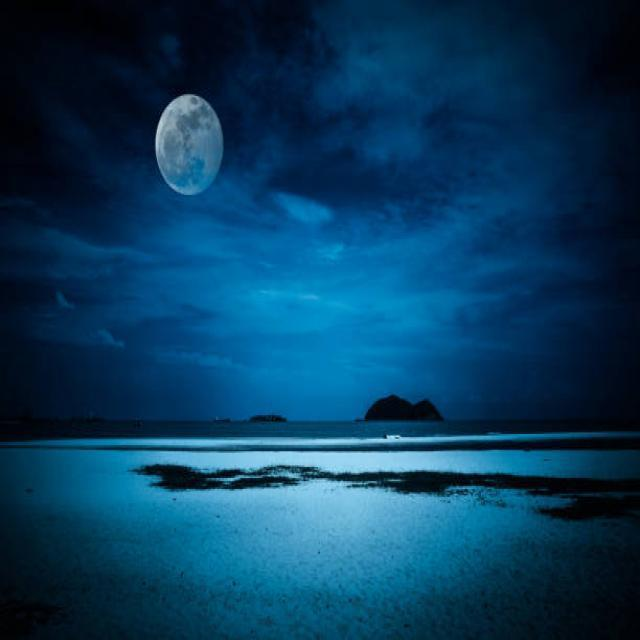moon: (155, 95, 225, 196)
